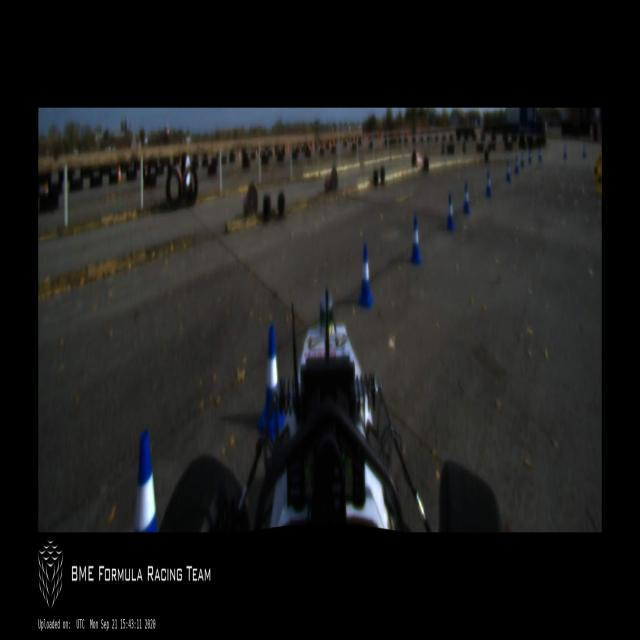blue_cone: (258, 326, 285, 438), (134, 428, 158, 532), (358, 244, 373, 306), (409, 216, 422, 264), (445, 194, 455, 229), (462, 183, 470, 214), (485, 171, 492, 195), (506, 160, 511, 182), (514, 154, 519, 174), (562, 144, 568, 159), (582, 144, 586, 160), (521, 150, 524, 168), (538, 148, 542, 161), (529, 148, 531, 164)
yellow_cone: (596, 170, 602, 192), (593, 162, 597, 184), (598, 150, 602, 170)
